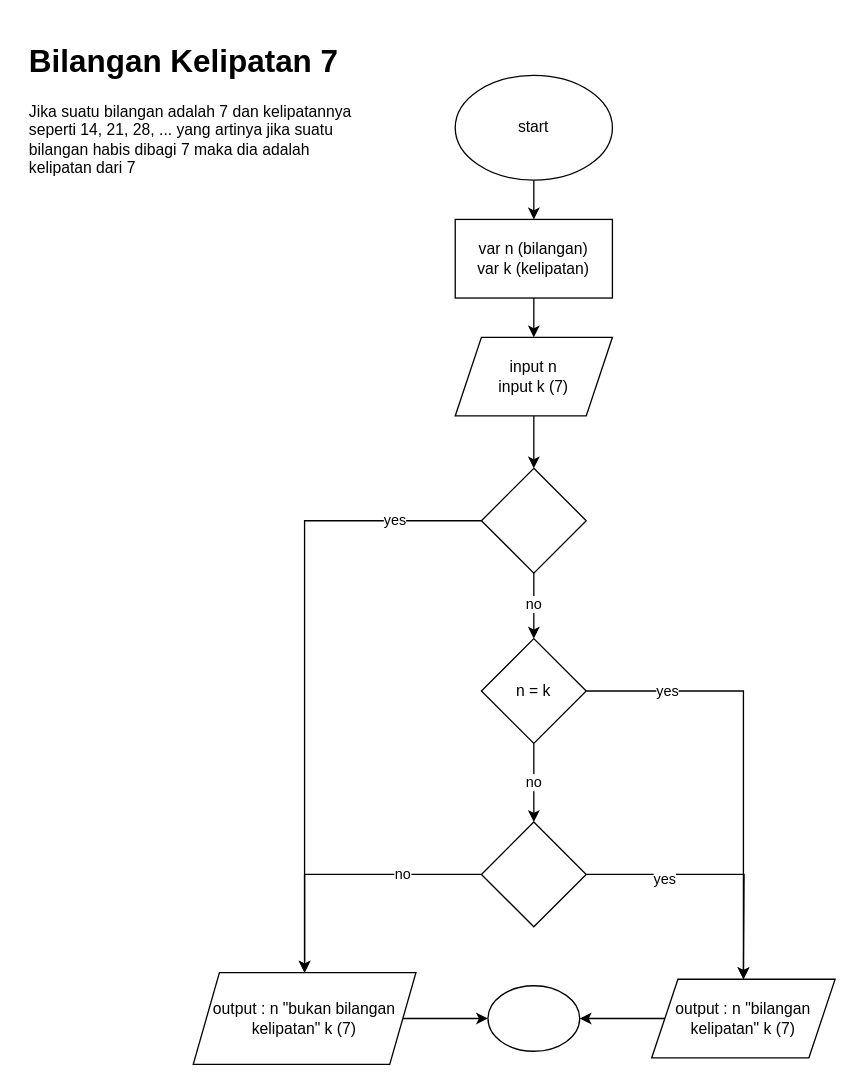
Image size: 858x1087. Some labels were removed from this diagram. Here are the shapes that lost their labels. From the top down, the box of each, then its label:
(480, 467, 586, 573): n < k
(480, 821, 586, 927): n % 7 = 0
(487, 984, 580, 1051): end
